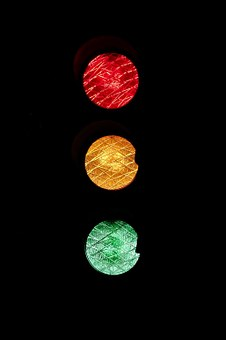trafic: (65, 36, 158, 296)
